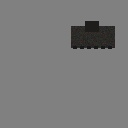armoured_vehicle: (71, 26, 115, 48)
